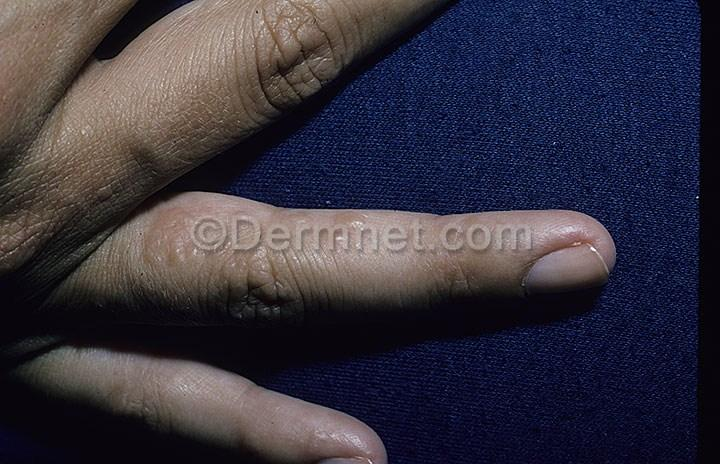Eczema: (225, 213, 316, 294), (122, 182, 209, 264), (320, 209, 396, 265)
